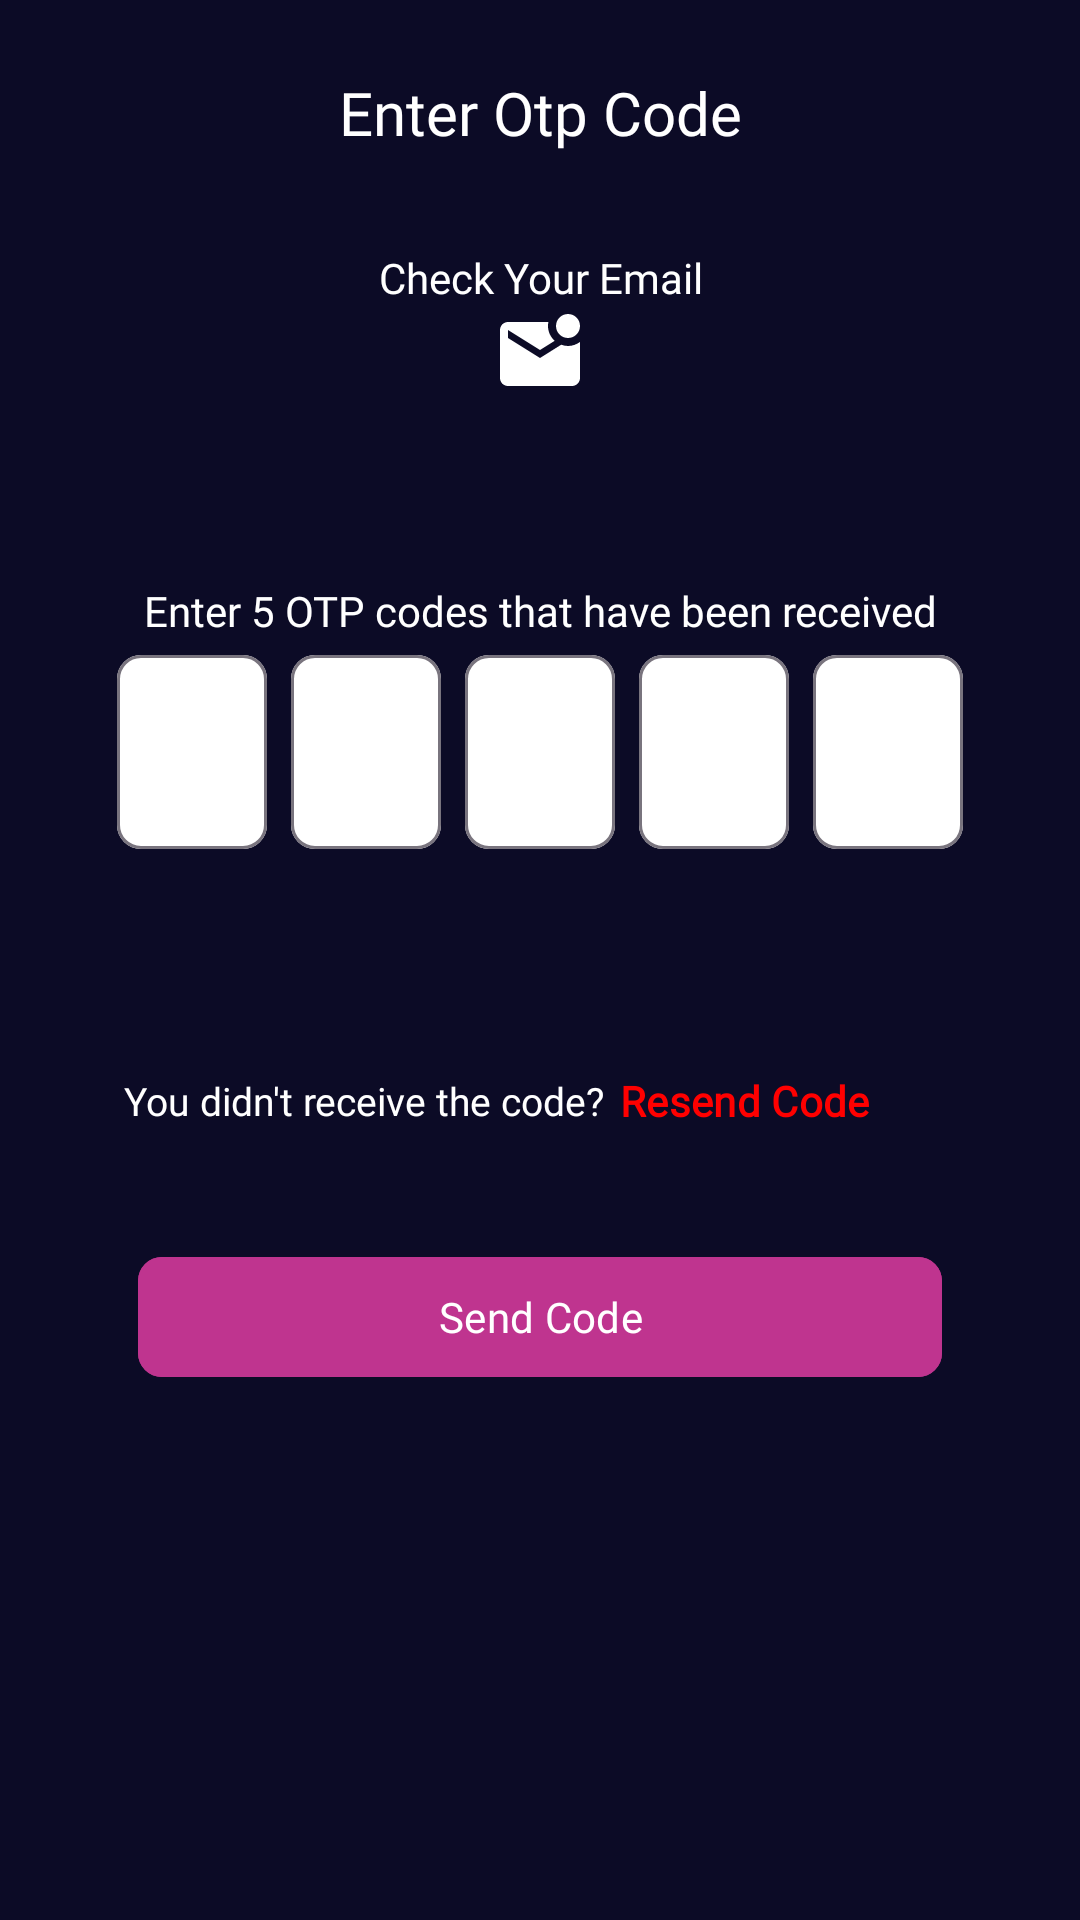

Locate icon controls on the screen. Image size 1080x1920, boxes as (x1, y1, x2, y2).
mark email unread: (500, 314, 580, 386)
